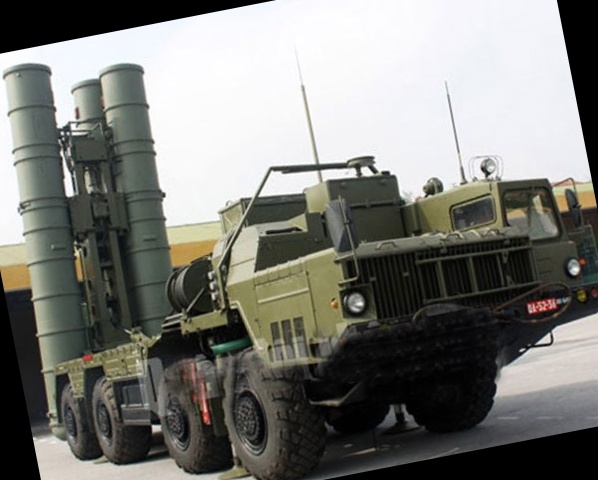plate: (521, 288, 563, 315)
